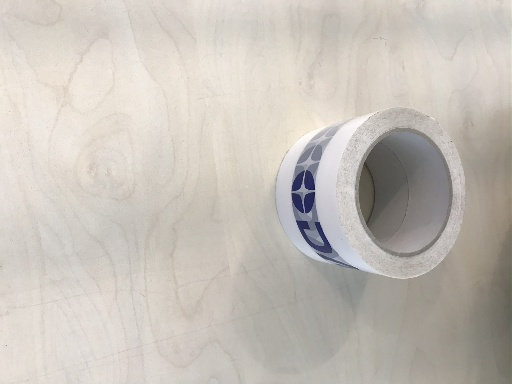Nastro: (274, 106, 467, 280)
